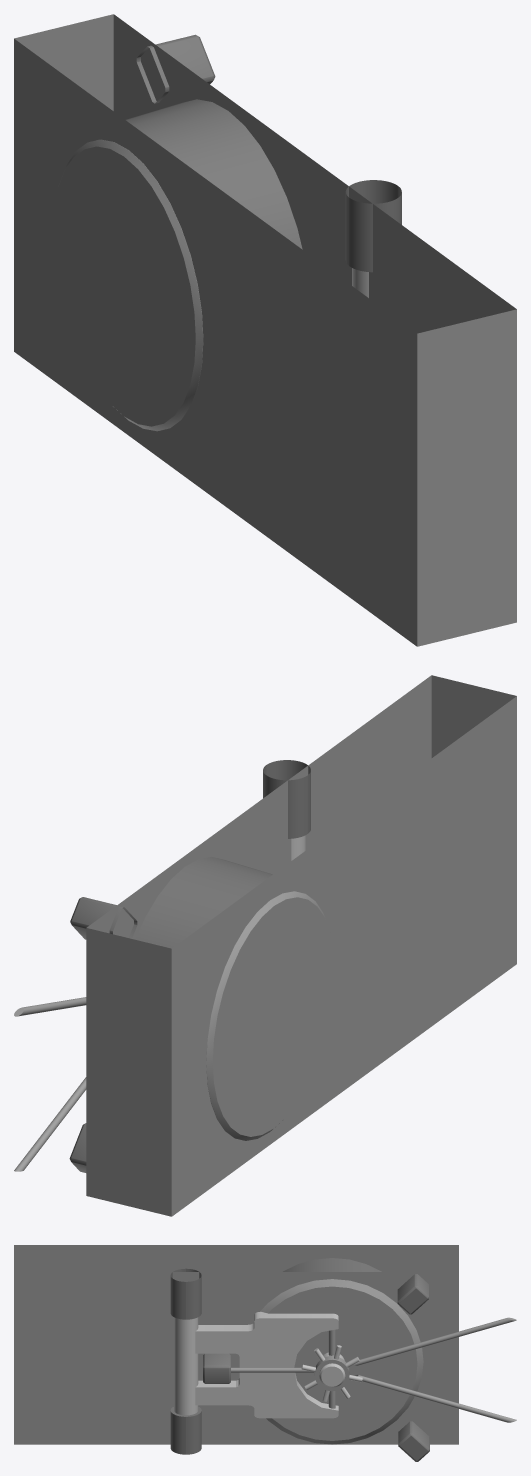
File: vaultdoor.fbx
The picture shows the model from 3 angles, top to bottom: view 1: azimuth 30°, elevation 25°; view 2: azimuth 150°, elevation 25°; view 3: azimuth 270°, elevation 25°; orthographic projection. The views are drawn at different scales.
Visible parts, largest first — view 1: Cube, Cylinder; view 2: Cube, Cylinder, Cylinder.011, Cylinder.010; view 3: Cube, Cylinder, Cylinder.003, Cylinder.010, Cylinder.011, Cylinder.009.
Part boxes in pixels (x1=…): Cube: x1=14, y1=14, x2=516, y2=646; Cylinder: x1=52, y1=139, x2=368, y2=431; Cube: x1=69, y1=675, x2=516, y2=1216; Cylinder: x1=206, y1=835, x2=335, y2=1140; Cylinder.011: x1=14, y1=1077, x2=86, y2=1171; Cylinder.010: x1=14, y1=997, x2=86, y2=1016; Cube: x1=14, y1=1245, x2=458, y2=1461; Cylinder: x1=174, y1=1279, x2=423, y2=1444; Cylinder.003: x1=301, y1=1345, x2=362, y2=1401; Cylinder.010: x1=353, y1=1317, x2=516, y2=1365; Cylinder.011: x1=353, y1=1374, x2=516, y2=1422; Cylinder.009: x1=231, y1=1367, x2=314, y2=1372.
Size of the model in its own units: 160 by 309 by 791.
